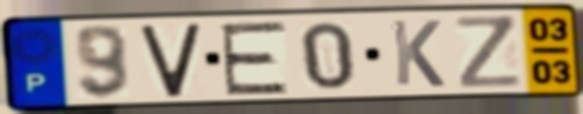0: (297, 20, 359, 92)
9: (71, 23, 132, 102)
E: (217, 19, 291, 97)
K: (388, 18, 448, 89)
V: (136, 20, 204, 100)
Z: (452, 13, 526, 91)
